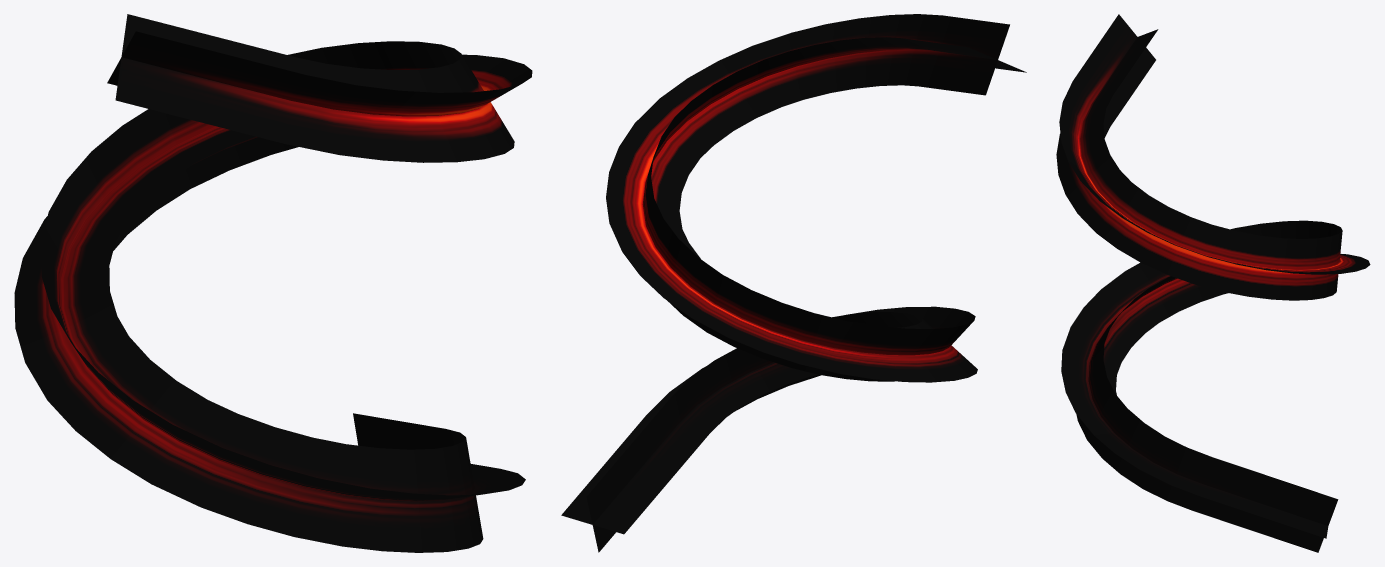
File: luoxuanxian_3.FBX
3 views of the same model, side by side, from view 1: azimuth 30°, elevation 25°; view 2: azimuth 150°, elevation 25°; view 3: azimuth 270°, elevation 25° (orthographic). The views are drawn at different scales.
Visible parts, largest first — view 1: Plane002; view 2: Plane002; view 3: Plane002.
Part boxes in pixels (bbox=[...]): Plane002: bbox=[14, 14, 532, 552]; Plane002: bbox=[561, 14, 1026, 552]; Plane002: bbox=[1056, 14, 1370, 552].
Size of the model in its own units: 77.79 by 112 by 75.47.
Materials: 1 (1 with a texture image).
